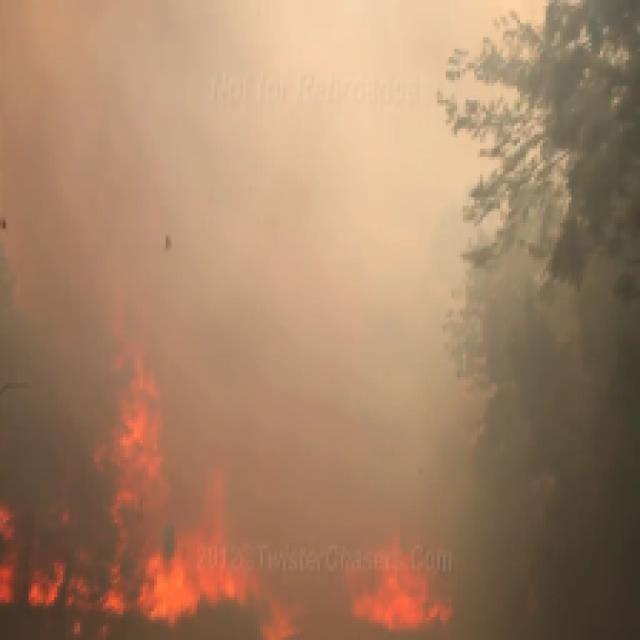Fire: (88, 379, 480, 632)
Smoke: (86, 52, 292, 328)
